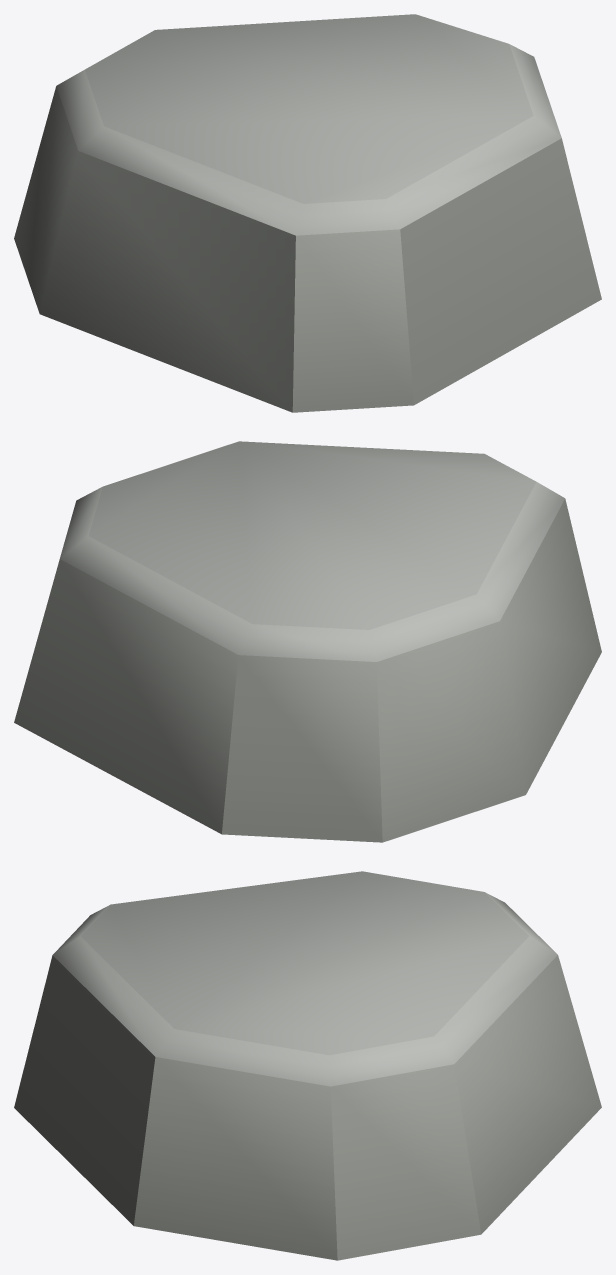
File: rock.fbx
The picture shows the model from 3 angles, top to bottom: view 1: azimuth 30°, elevation 25°; view 2: azimuth 150°, elevation 25°; view 3: azimuth 270°, elevation 25°; orthographic projection. The views are drawn at different scales.
Parts seen in each view (by area): view 1: rock; view 2: rock; view 3: rock.
Boxes of the visible parts, x1=… form: rock: x1=14, y1=14, x2=601, y2=412; rock: x1=14, y1=441, x2=601, y2=842; rock: x1=14, y1=871, x2=601, y2=1260.
Bounding box in the file's own units: 0.6053 × 0.204 × 0.6226.
